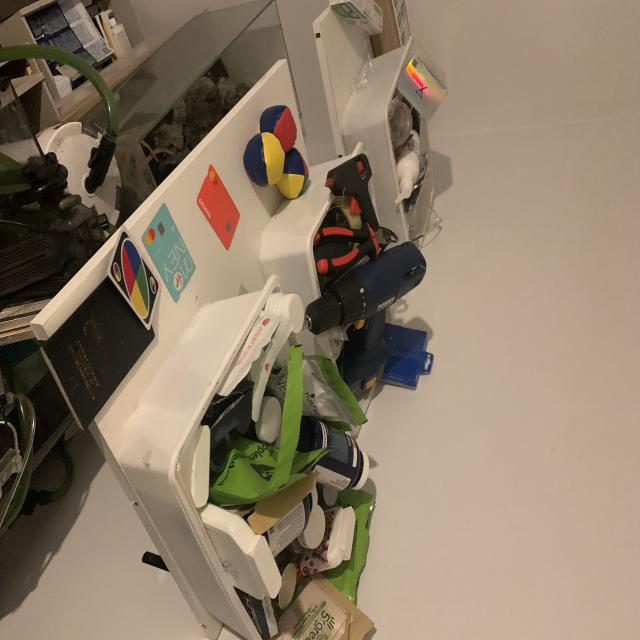lcolor-40: (111, 262, 124, 284)
